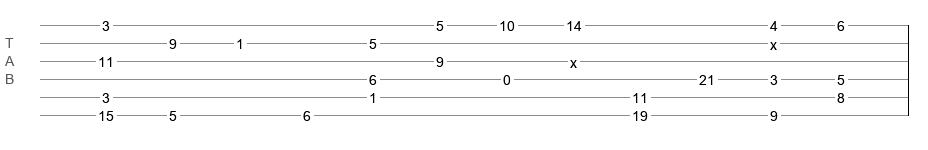0: (503, 72, 511, 82)
1: (236, 36, 244, 46), (369, 90, 377, 100)
10: (499, 18, 515, 28)
11: (98, 54, 114, 64), (632, 90, 648, 100)
14: (566, 18, 582, 28)
15: (98, 108, 114, 118)
19: (632, 108, 648, 118)
21: (699, 72, 715, 82)
3: (102, 90, 110, 100), (102, 18, 110, 28), (770, 72, 778, 82)
4: (770, 18, 778, 28)
5: (169, 108, 177, 118), (369, 36, 377, 46), (436, 18, 444, 28), (837, 72, 845, 82)
6: (303, 108, 311, 118), (369, 72, 377, 82), (837, 18, 845, 28)
8: (837, 90, 845, 100)
9: (169, 36, 177, 46), (436, 54, 444, 64), (770, 108, 778, 118)
x: (570, 55, 577, 63), (770, 37, 777, 45)
